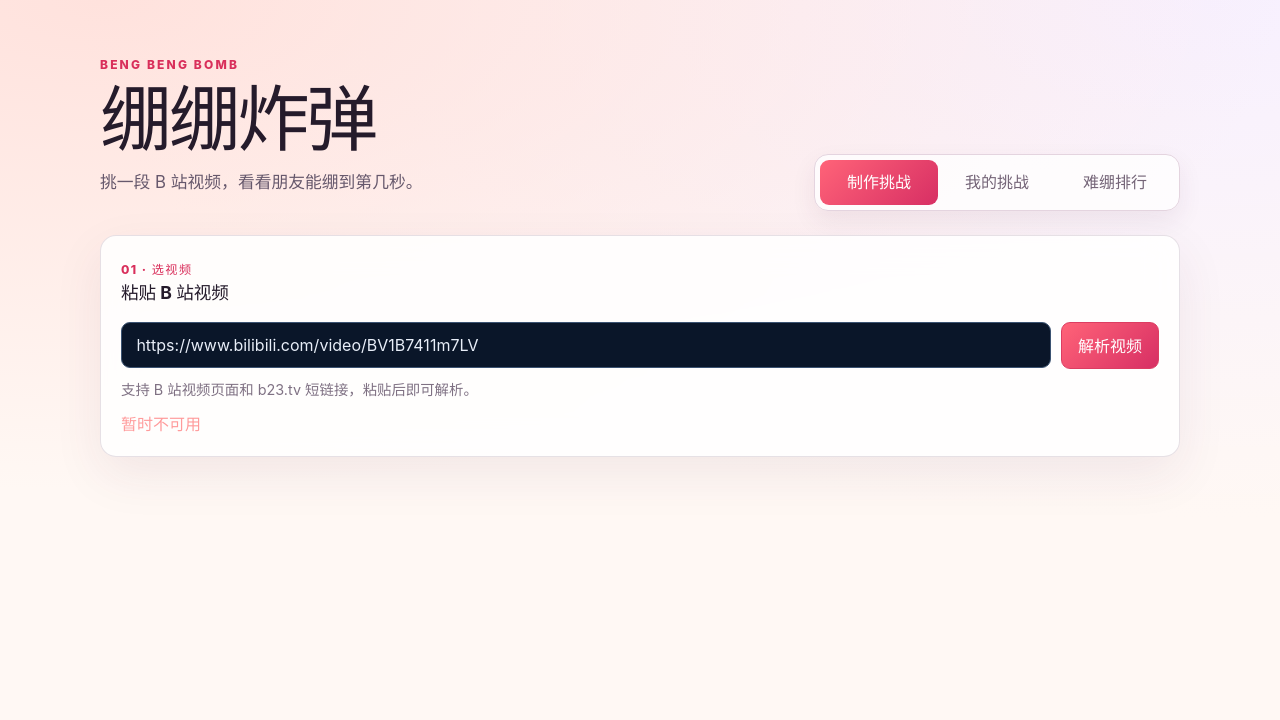
Test: HomeView › keeps a failed forwarded parse available for retry and clears it after success
This screenshot has width=1280, height=720.
Expected: the message reads "暂时不可用", [121,414,201,434]
Click the button "解析视频".
click(1110, 346)  # box [1061,322,1159,369]
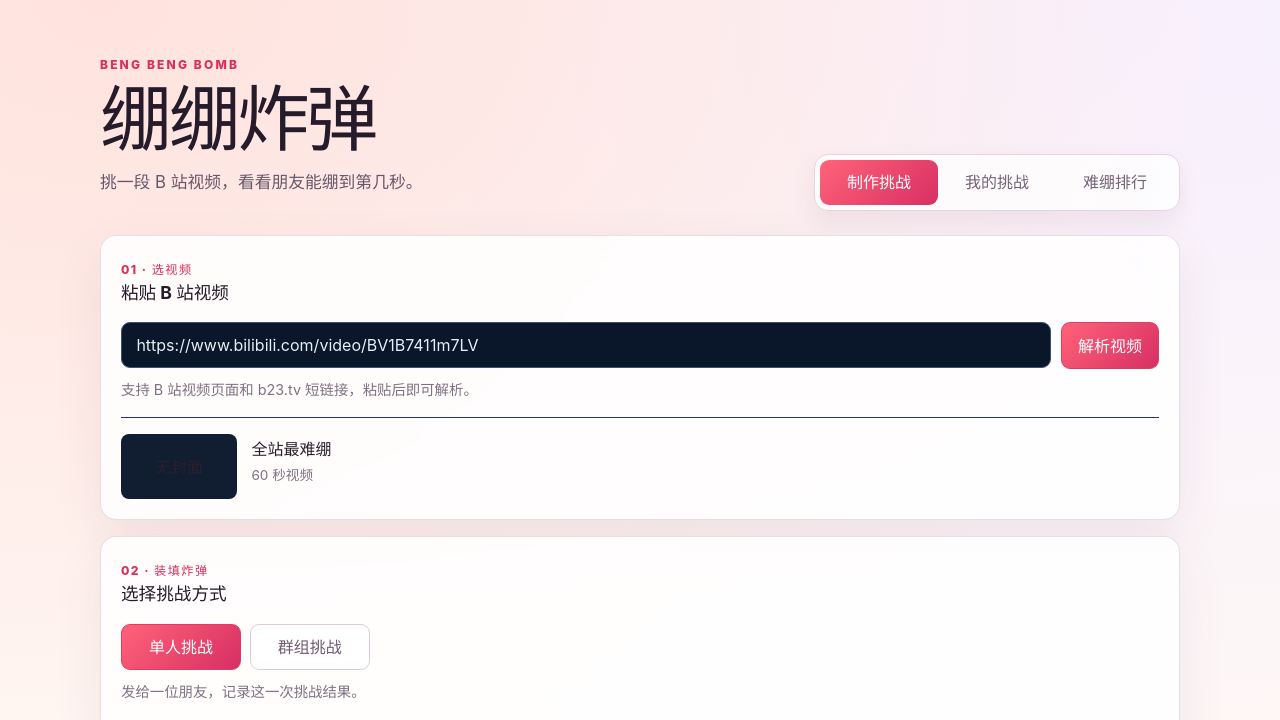
Expected: the text "全站最难绷" is shown, [251,437,331,461]
